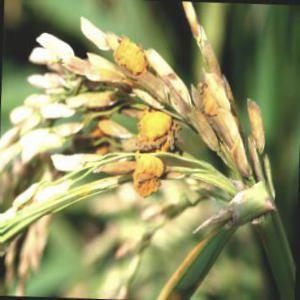Leaf_Scald: (134, 106, 166, 201), (190, 71, 236, 131), (113, 34, 150, 92)
